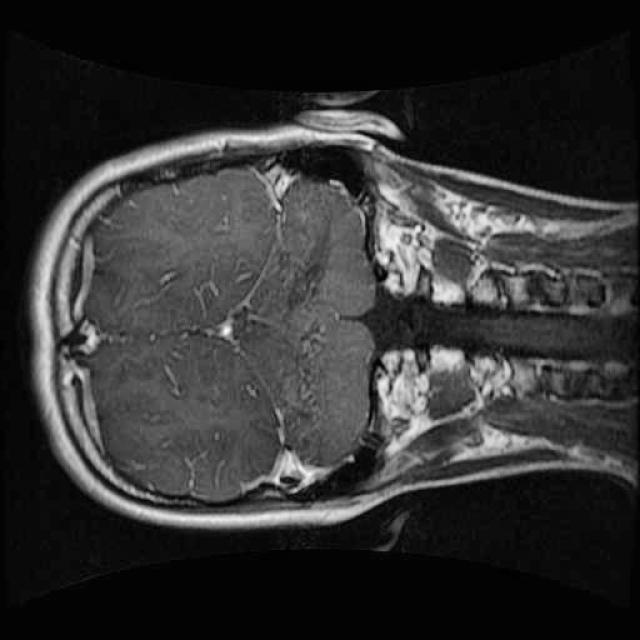Tumor: (265, 192, 363, 336)
